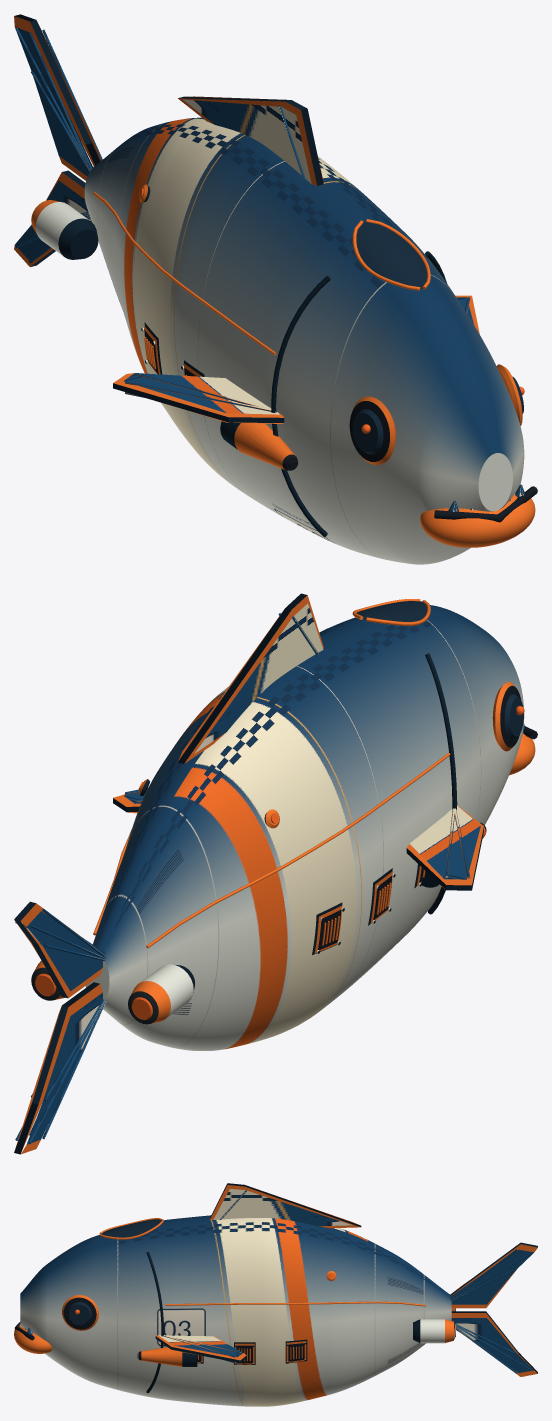
3 renders of one model, top to bottom at view 1: azimuth 30°, elevation 25°; view 2: azimuth 150°, elevation 25°; view 3: azimuth 270°, elevation 25°, orthographic. The views are drawn at different scales.
Parts seen in each view (by area): view 1: piranha_hull; view 2: piranha_hull; view 3: piranha_hull.
Boxes of the visible parts, bbox=[...] form: piranha_hull: bbox=[14, 14, 537, 564]; piranha_hull: bbox=[14, 593, 537, 1154]; piranha_hull: bbox=[14, 1183, 537, 1406].
Bounding box in the file's own units: 6.42 × 6.94 × 15.
1 material, 1 textured.
